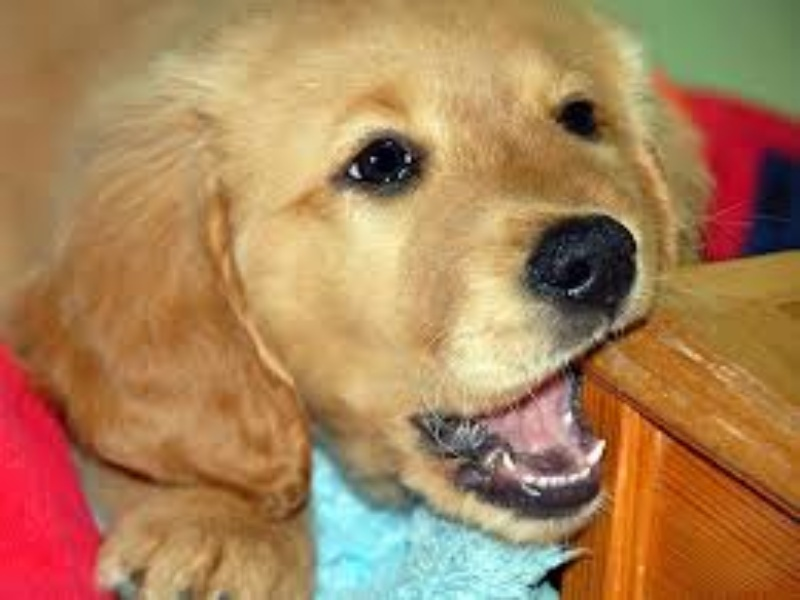dog: (90, 9, 700, 600)
